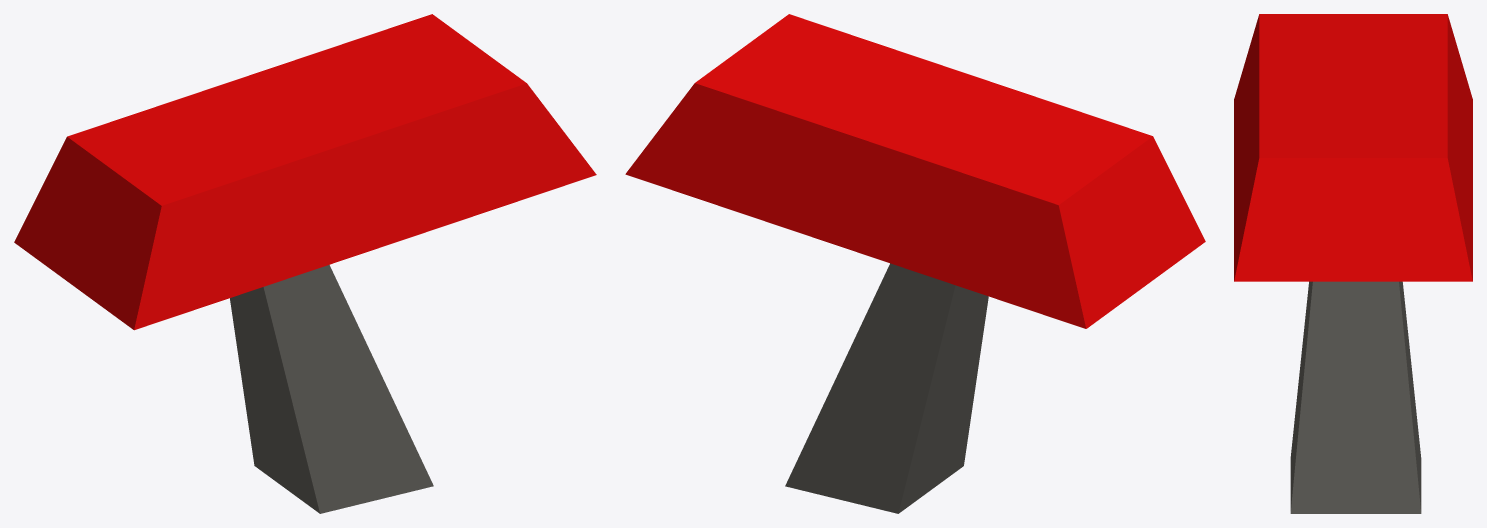
The model's file is slitonya.fbx.
3 renders of one model, left to right at view 1: azimuth 30°, elevation 25°; view 2: azimuth 150°, elevation 25°; view 3: azimuth 270°, elevation 25°, orthographic.
Visible parts, largest first — view 1: Cube.001, Cube; view 2: Cube.001, Cube; view 3: Cube.001, Cube.
Boxes of the visible parts, left/top/right/bottom form: Cube.001: left=14, top=14, right=596, bottom=330; Cube: left=230, top=265, right=433, bottom=513; Cube.001: left=625, top=14, right=1205, bottom=328; Cube: left=785, top=263, right=988, bottom=513; Cube.001: left=1234, top=14, right=1472, bottom=281; Cube: left=1290, top=281, right=1421, bottom=513.
Bounding box in the file's own units: 206 × 168 × 92.28.
